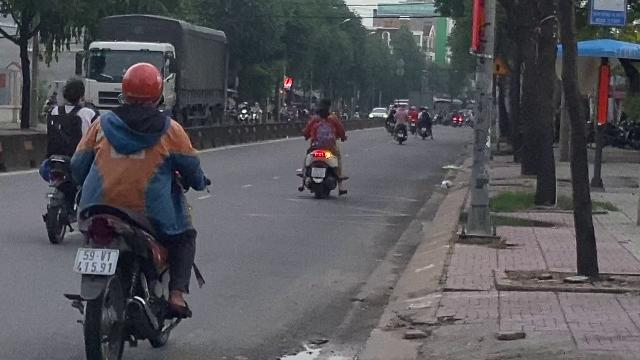helmet: (118, 62, 164, 110)
licenseplate: (76, 248, 118, 274), (311, 167, 325, 177)
motorcyclist: (58, 59, 212, 357), (36, 73, 100, 245), (295, 94, 351, 206)
nohelmet: (62, 76, 86, 104), (320, 98, 332, 110), (316, 108, 328, 120)
